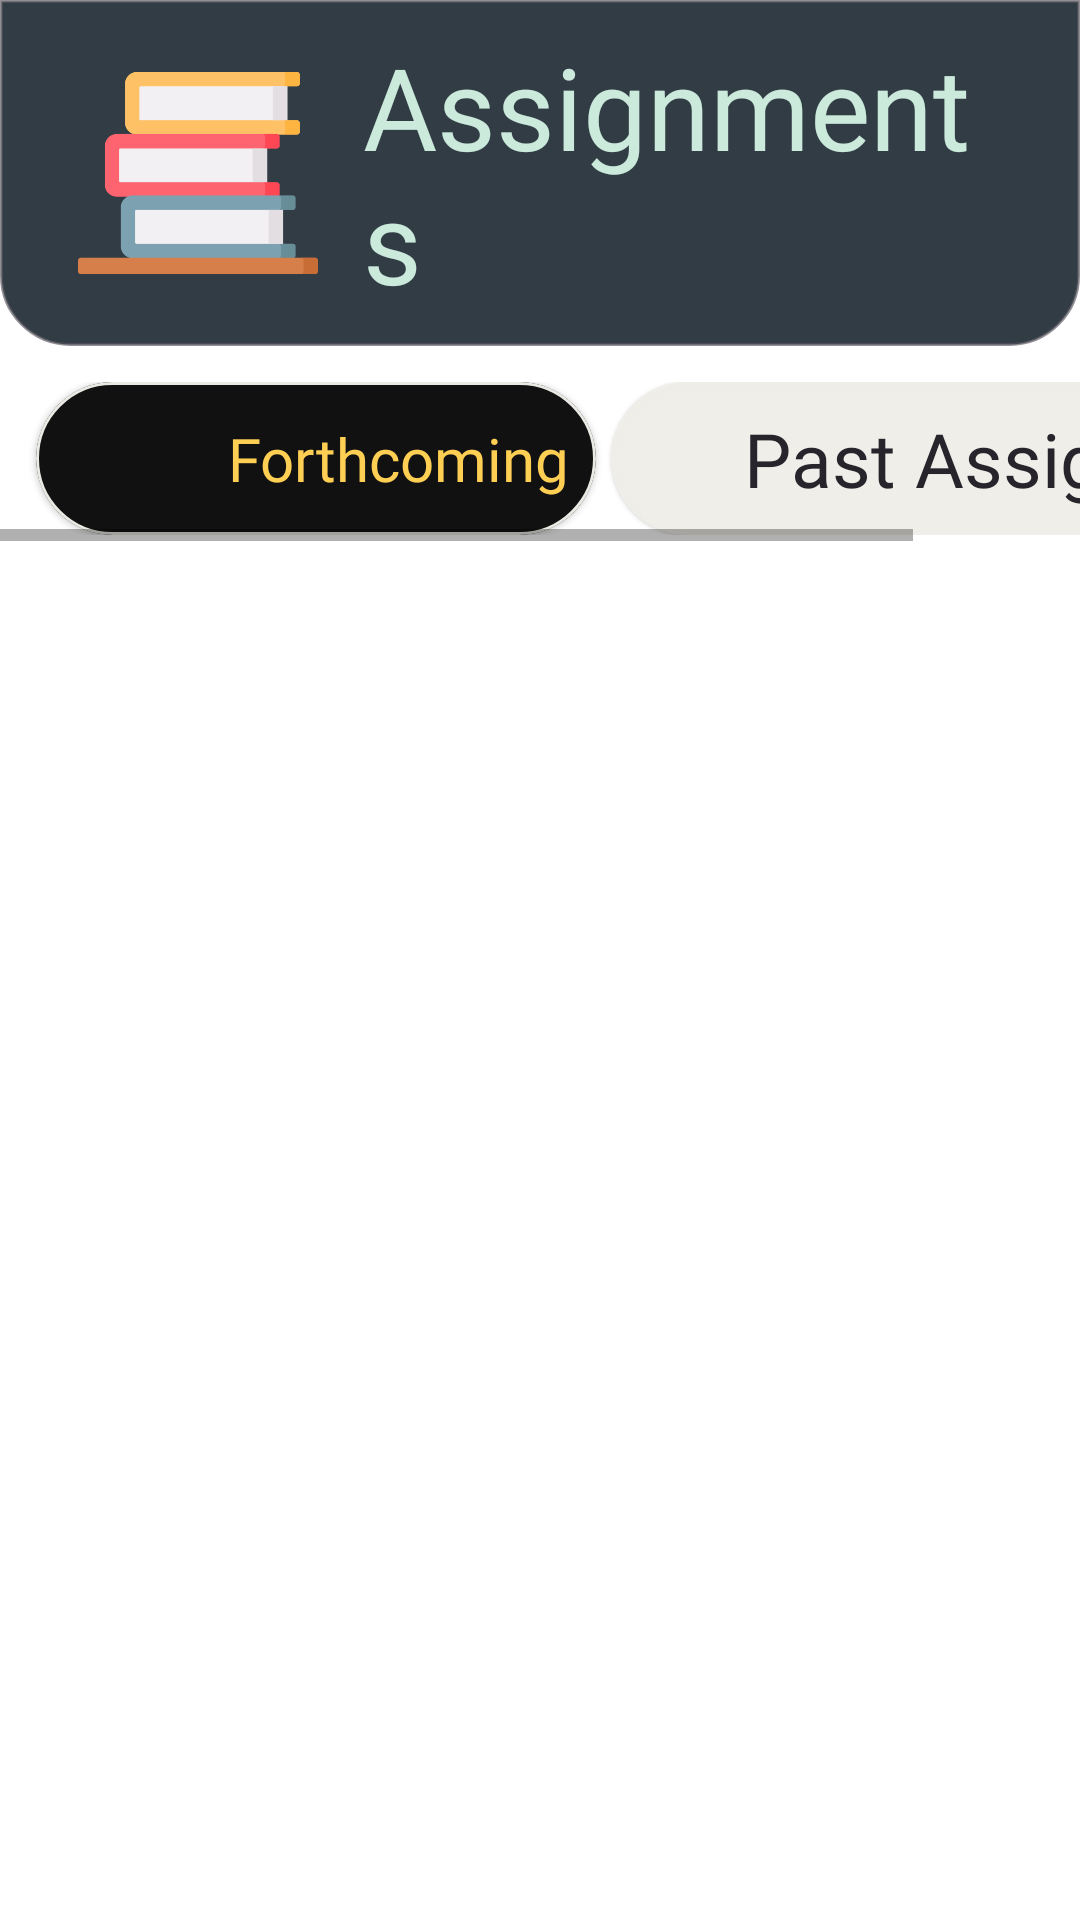

Where icons sit on this 1080w x 1920h app screen, as (x1, y1, x2, y2):
books: (78, 72, 318, 274)
